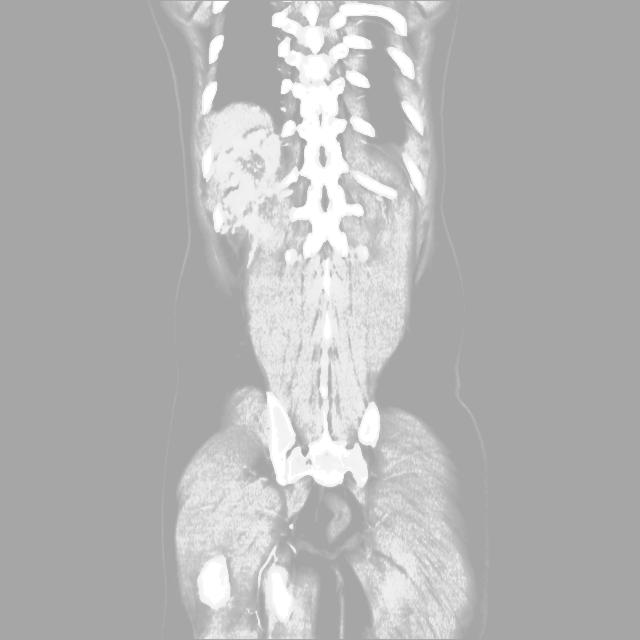TUMOR: (173, 138, 471, 428)
